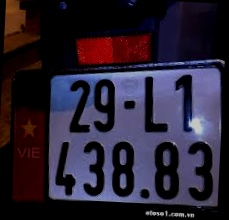Bien-so: (44, 58, 228, 200)
